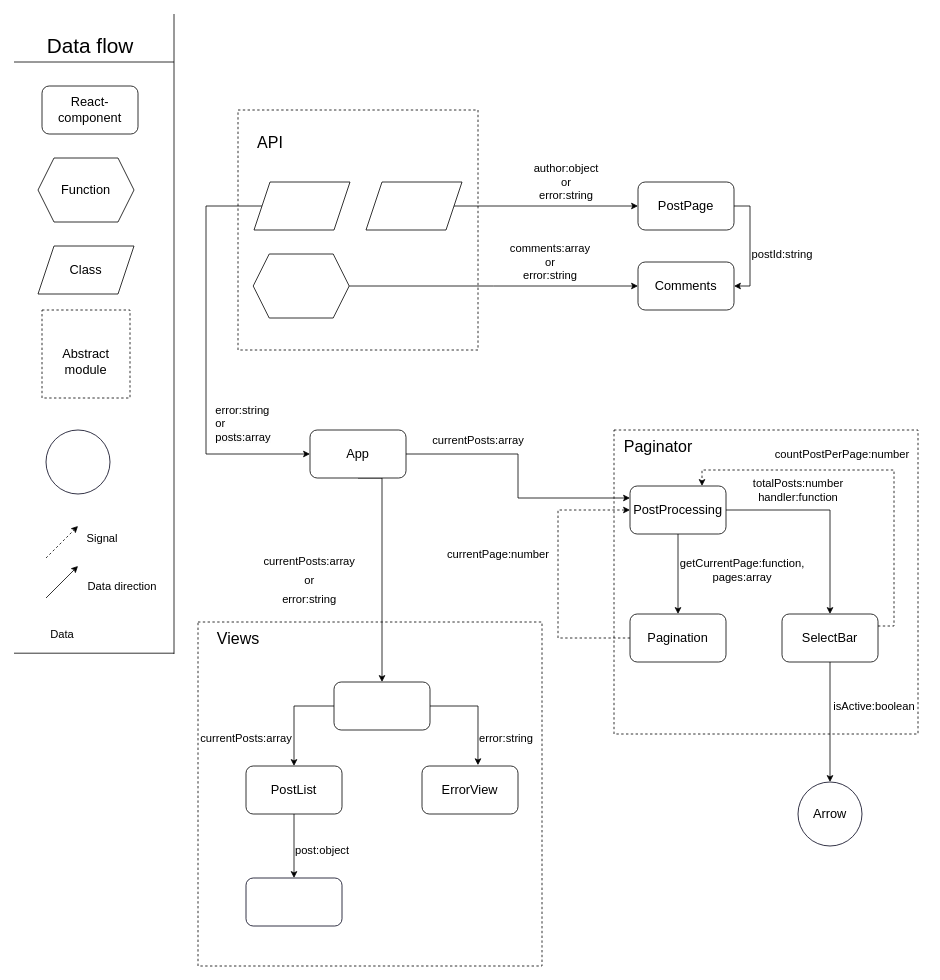
The diagram is 940 pixels wide and 980 high, and some of its shapes have lost their labels. The shapes that lost their labels are listed below. From the top down, each one's centre as x and y in pixels, then its label:
point 301,205: PostApi
point 413,205: AuthorApi
point 300,285: commentApi
point 77,461: UI-component
point 381,705: ViewManager
point 293,901: PostListItem
